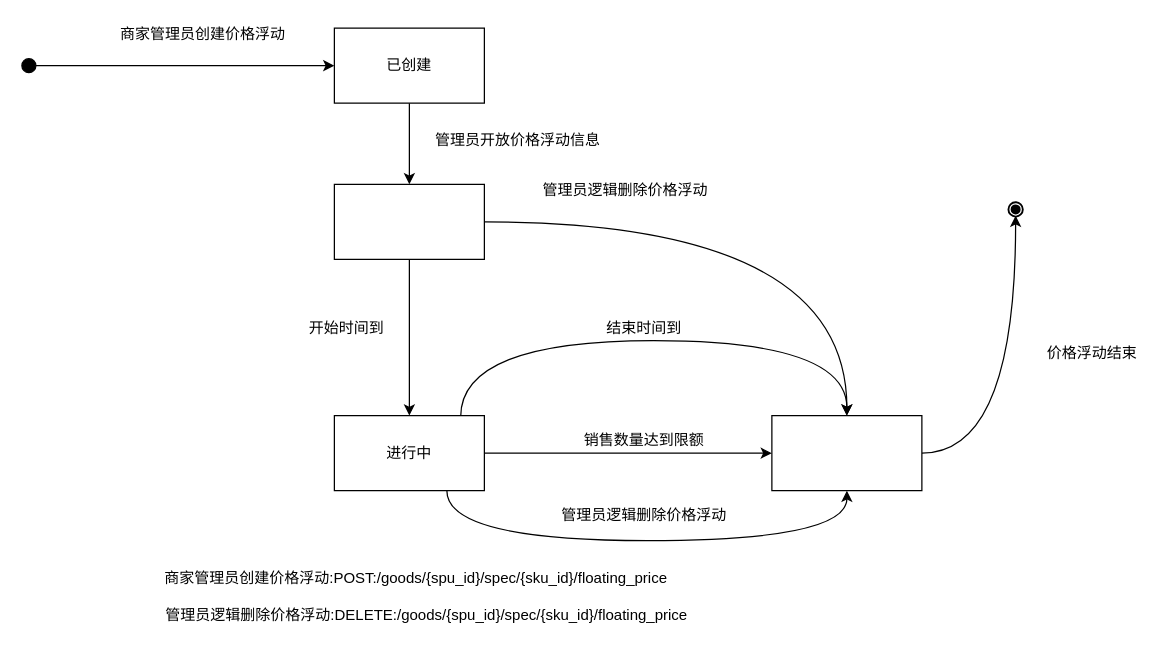
This 1173x649 diagram has some shape labels left out. Here are the shapes that lost their labels. From the top down, the centre of each, then its label:
[408,221]: 未开始
[846,452]: 已关闭
